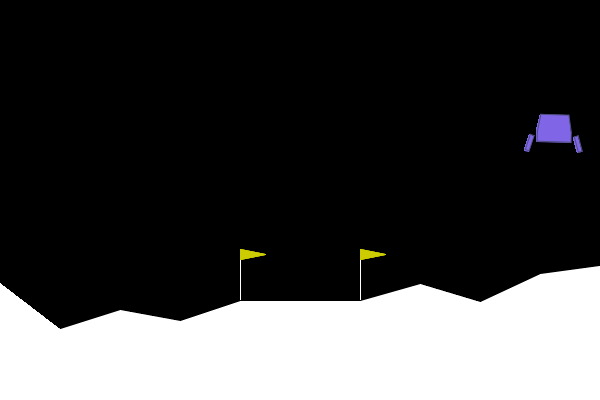lander: (523, 112, 584, 154)
